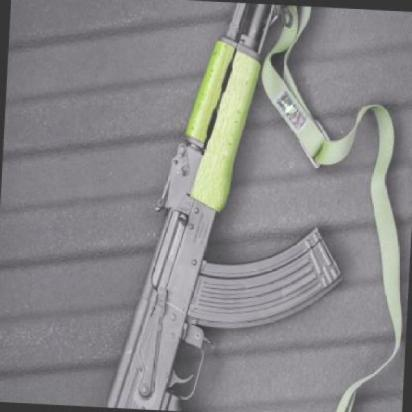Gun: (85, 0, 351, 412)
